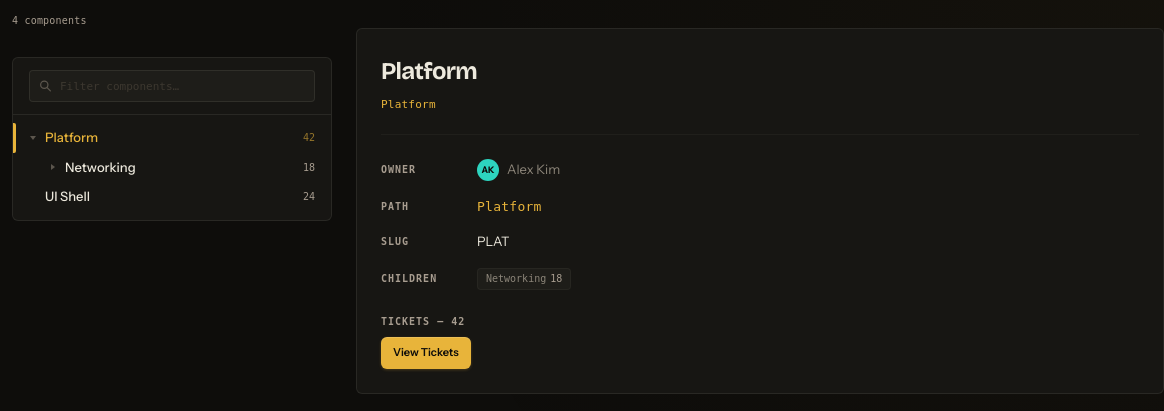
Test: ComponentTreePage › selects a component when clicked
This screenshot has width=1164, height=411.
Click the text "UI Shell".
click(67, 196)  # box [45,188,90,204]
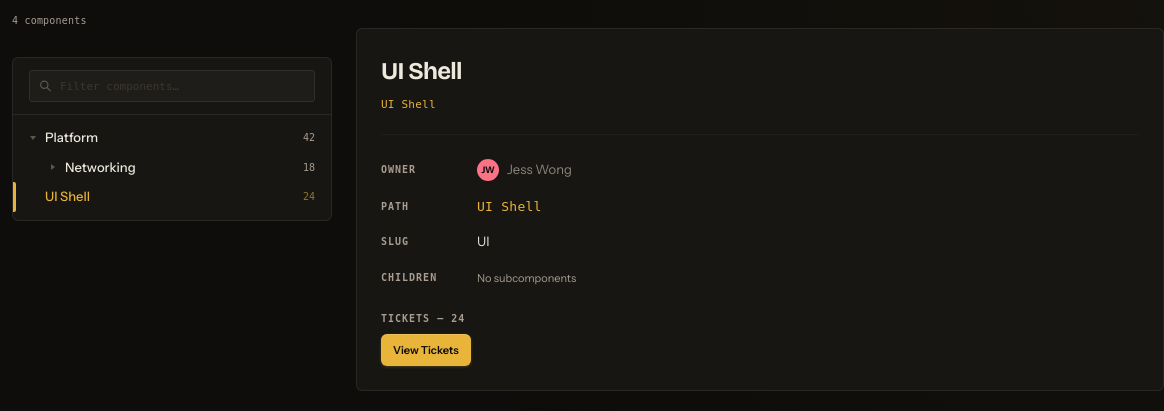
Now the text "Jess Wong" is shown, box [507,161,572,177]
